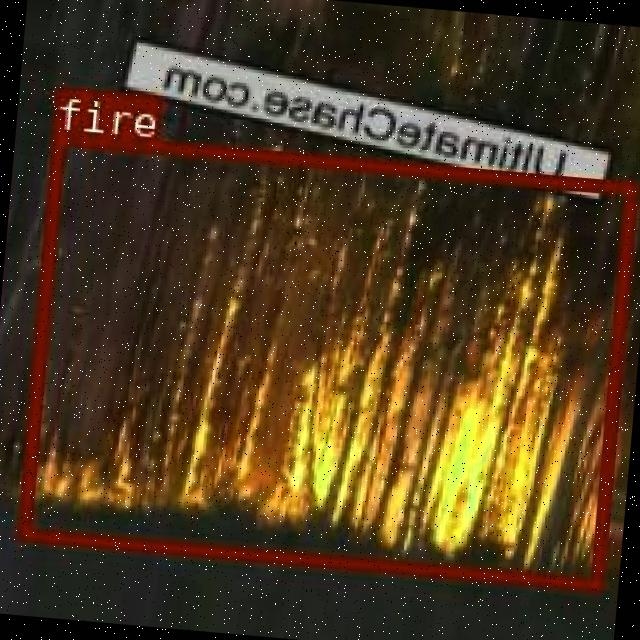fire: (15, 128, 635, 588)
